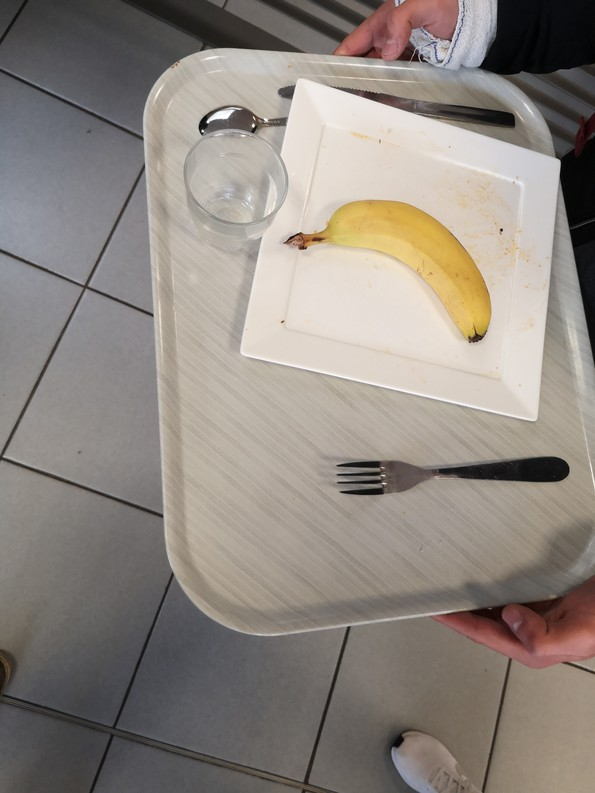cup: (176, 143, 287, 240)
cutlery: (306, 446, 567, 498), (193, 89, 294, 141)
orga: (289, 192, 496, 346)
